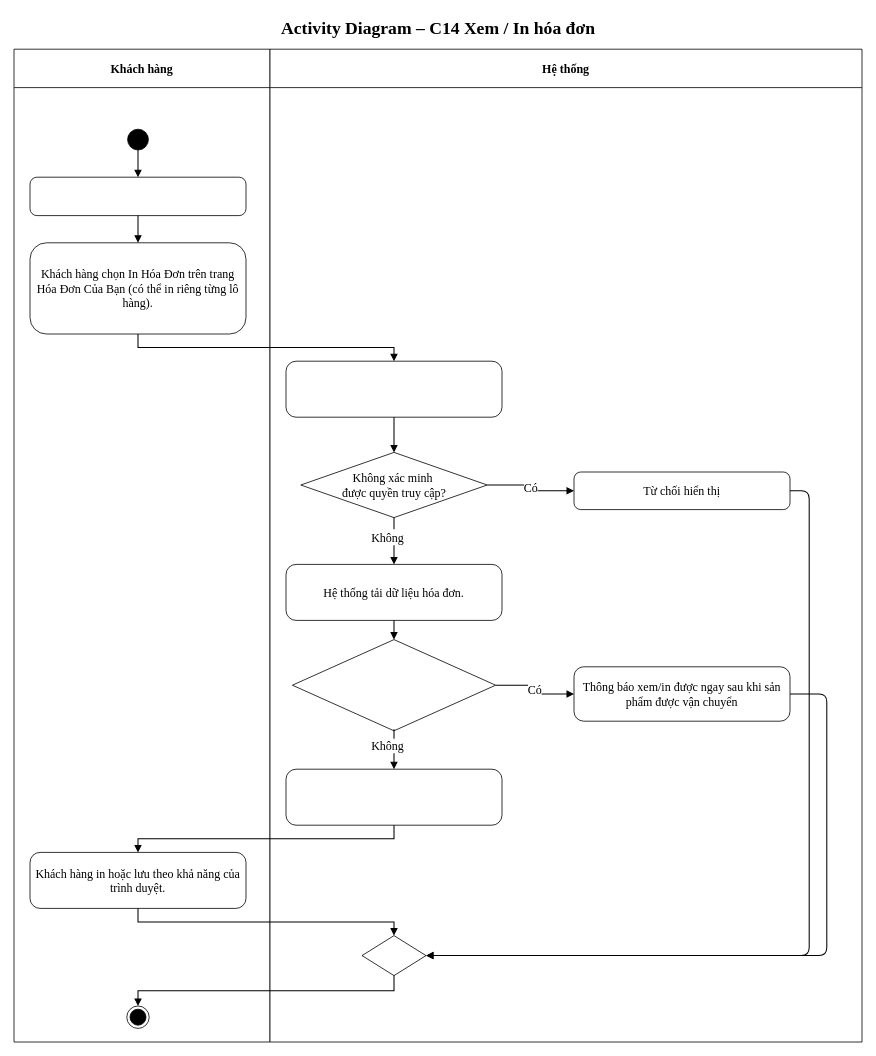
Some shapes in this 876 by 1056 pixel diagram are drawn without their labels. Each missing label, with the box of its shape:
Hệ thống hiển thị bản hóa đơn.: (285, 768, 502, 825)
Hệ thống kiểm tra quyền truy cập đơn.: (285, 360, 502, 417)
Khách hàng mở Xem Đơn Hàng.: (29, 176, 246, 216)
Sản phẩm chưa được vận chuyển nên chưa có hóa đơn?: (292, 639, 496, 731)
